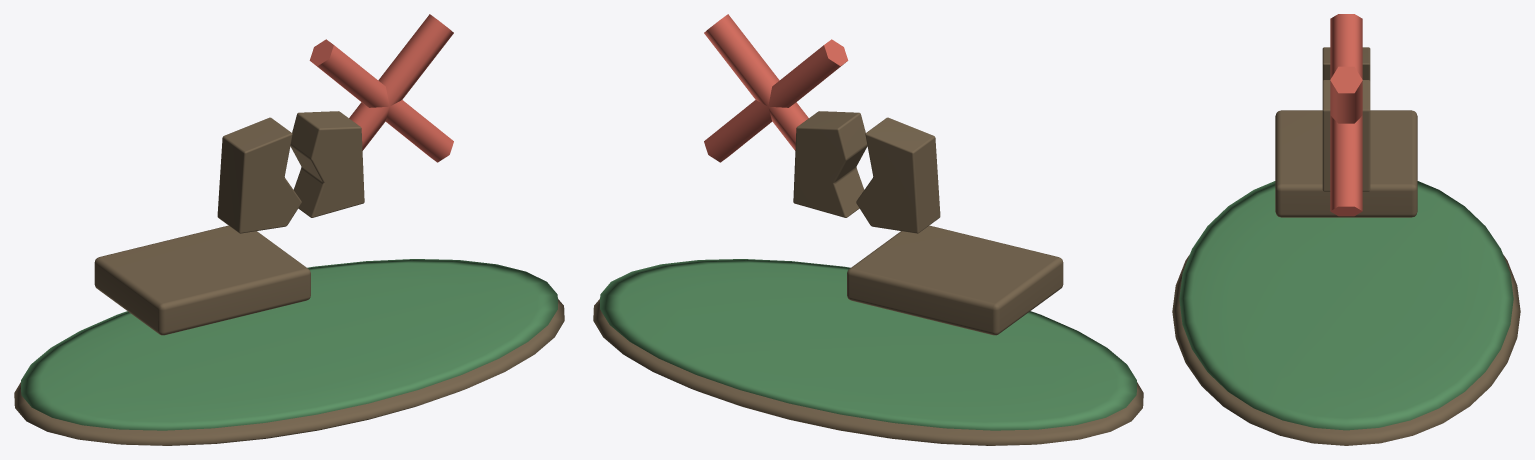
The model's file is complete-second-broken-earth.glb.
The picture shows the model from 3 angles, left to right: view 1: azimuth 30°, elevation 25°; view 2: azimuth 150°, elevation 25°; view 3: azimuth 270°, elevation 25°; orthographic projection. The views are drawn at different scales.
Parts seen in each view (by area): view 1: complete-second-broken-earth_surface_01, complete-second-broken-earth_surface_00, complete-second-broken-earth_surface_02; view 2: complete-second-broken-earth_surface_01, complete-second-broken-earth_surface_00, complete-second-broken-earth_surface_02; view 3: complete-second-broken-earth_surface_01, complete-second-broken-earth_surface_00, complete-second-broken-earth_surface_02.
Boxes of the visible parts, box(x1,y1,x2,y2) form: complete-second-broken-earth_surface_01: box(21, 259, 557, 430); complete-second-broken-earth_surface_00: box(14, 111, 564, 445); complete-second-broken-earth_surface_02: box(309, 14, 453, 162); complete-second-broken-earth_surface_01: box(600, 259, 1136, 430); complete-second-broken-earth_surface_00: box(593, 111, 1143, 445); complete-second-broken-earth_surface_02: box(704, 14, 848, 162); complete-second-broken-earth_surface_01: box(1179, 181, 1513, 430); complete-second-broken-earth_surface_00: box(1172, 47, 1520, 445); complete-second-broken-earth_surface_02: box(1330, 14, 1362, 216).
Bounding box in the file's own units: 4.56 × 2.65 × 2.5.
